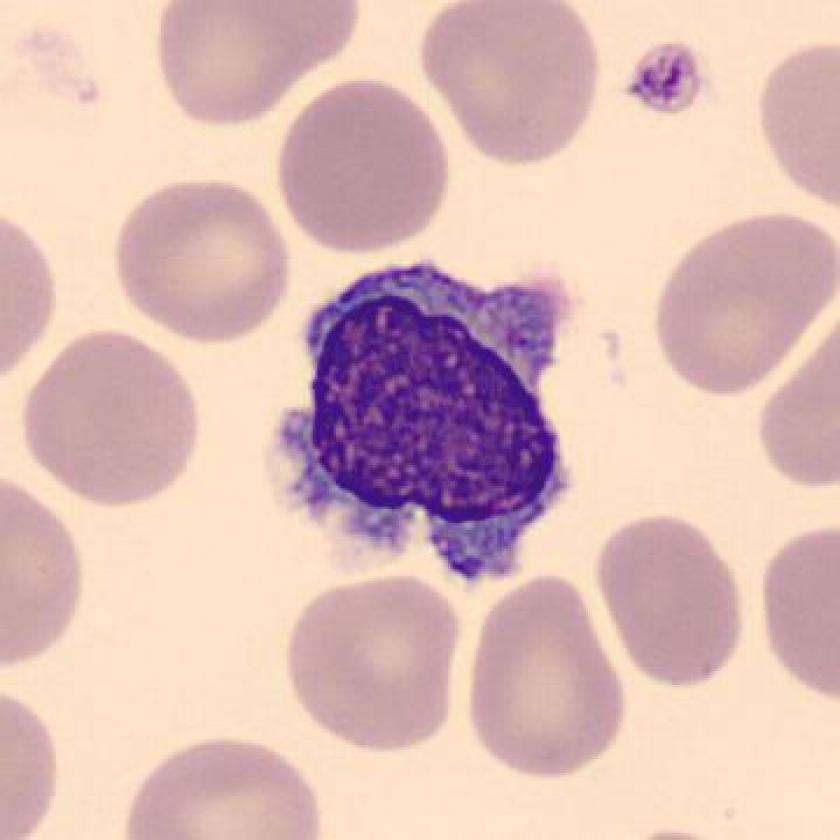lymphocyte: (270, 247, 592, 608)
platelets: (619, 35, 713, 119)
